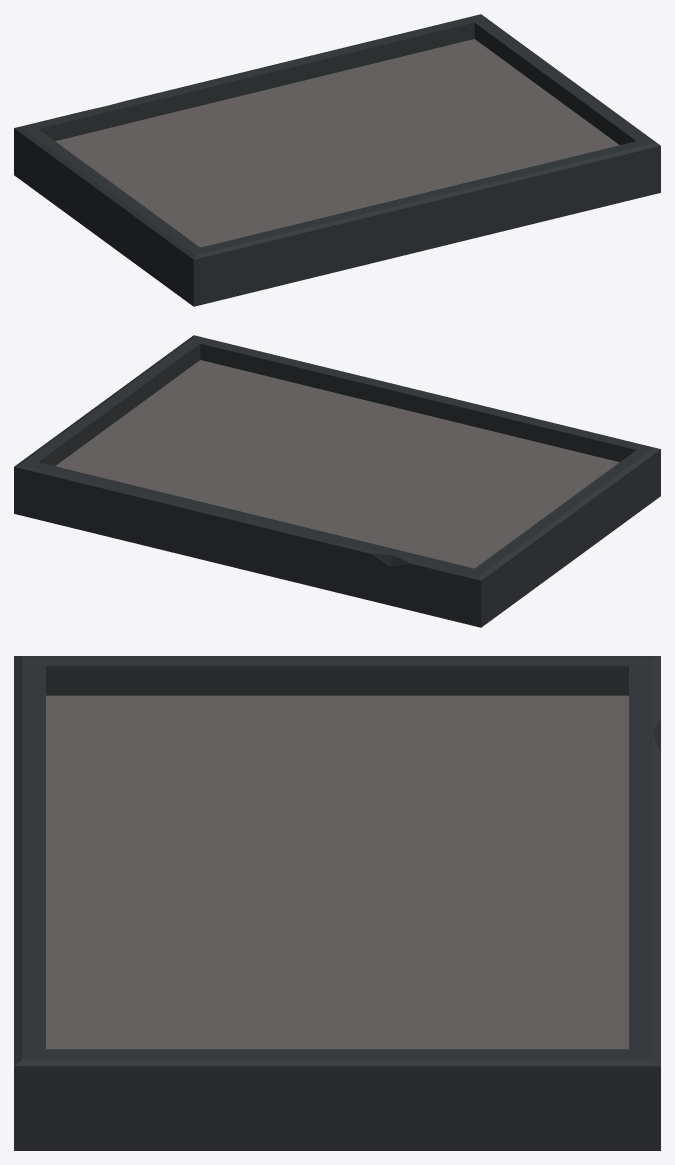
The model's file is SM_Bldg_City_High-Rise_Modern_03_Roof.fbx.
3 views of the same model, one above another, from view 1: azimuth 30°, elevation 25°; view 2: azimuth 150°, elevation 25°; view 3: azimuth 270°, elevation 25° (orthographic). The views are drawn at different scales.
Parts seen in each view (by area): view 1: SM_Bldg_City_High-Rise_Modern_03_Roof; view 2: SM_Bldg_City_High-Rise_Modern_03_Roof; view 3: SM_Bldg_City_High-Rise_Modern_03_Roof.
Boxes of the visible parts, box(x1,y1,x2,y2) form: SM_Bldg_City_High-Rise_Modern_03_Roof: box(14, 14, 660, 306); SM_Bldg_City_High-Rise_Modern_03_Roof: box(14, 335, 660, 627); SM_Bldg_City_High-Rise_Modern_03_Roof: box(14, 656, 660, 1150).
Size of the model in its own units: 1500 by 150 by 1000.
